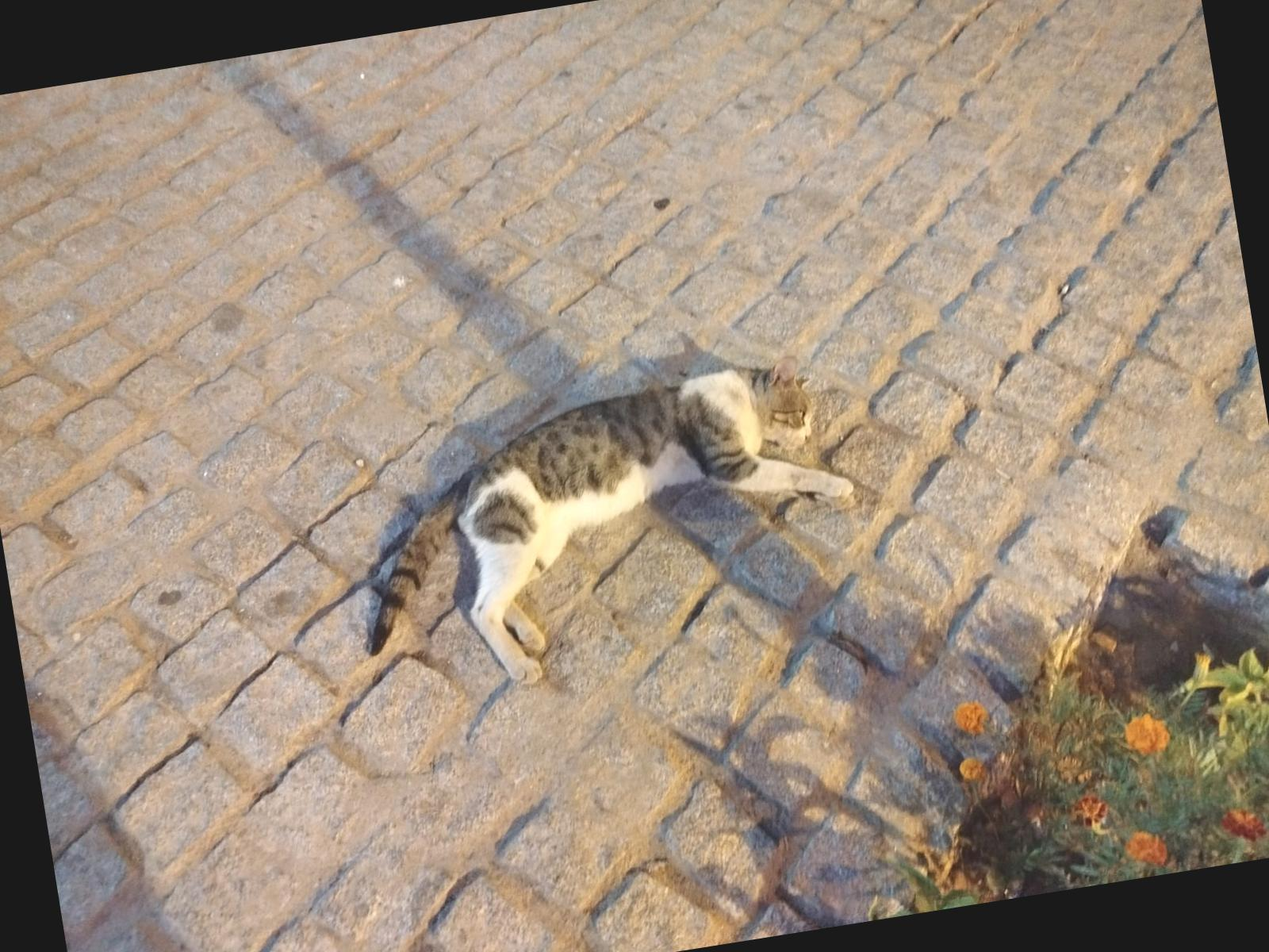macka: (332, 347, 879, 708)
